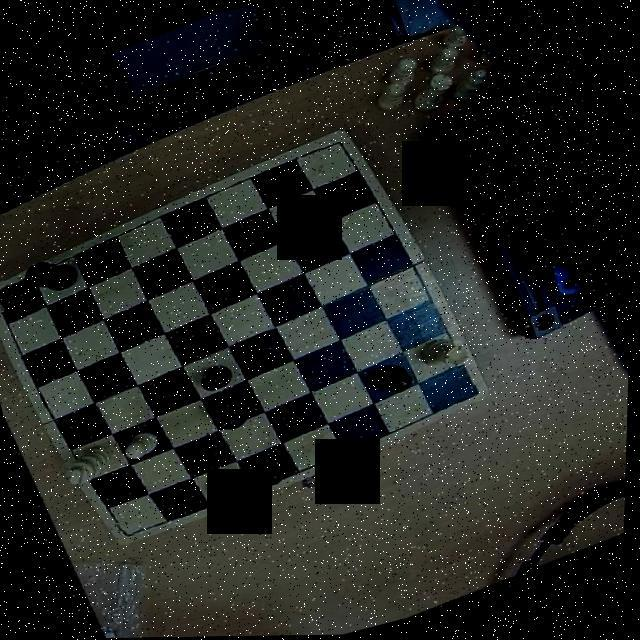chess-table-corners: (316, 131, 358, 171), (450, 370, 490, 410), (110, 514, 148, 548), (0, 276, 24, 316)
